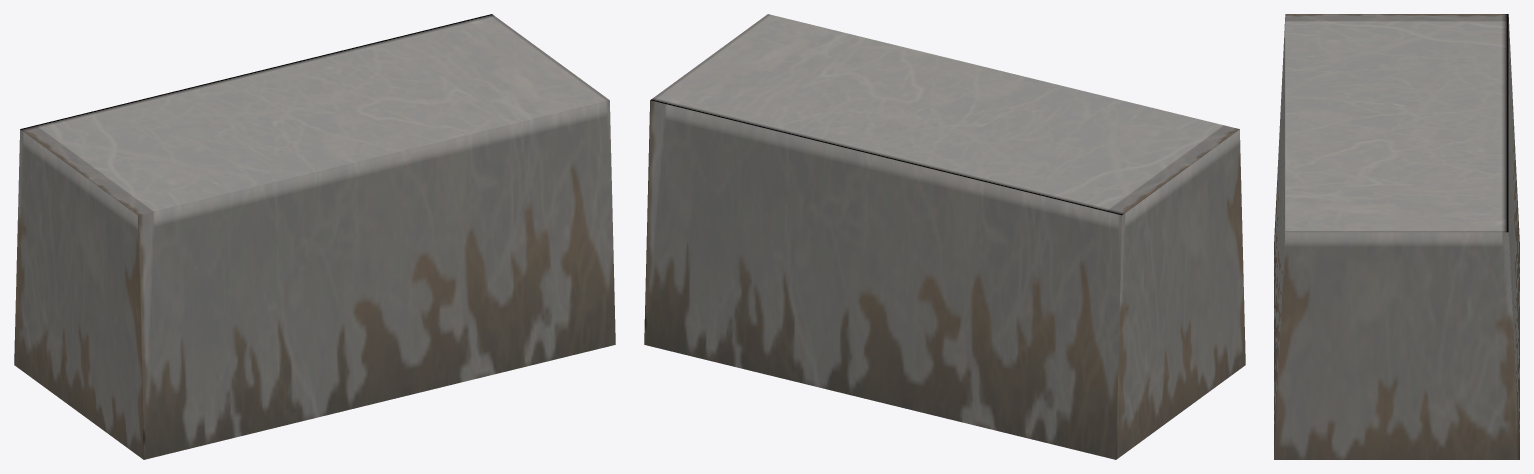
File: Building_AncientBarrierLong.glb
3 views of the same model, side by side, from view 1: azimuth 30°, elevation 25°; view 2: azimuth 150°, elevation 25°; view 3: azimuth 270°, elevation 25° (orthographic). The views are drawn at different scales.
Visible parts, largest first — view 1: AncientBarrierLong; view 2: AncientBarrierLong; view 3: AncientBarrierLong.
Boxes of the visible parts, x1=… form: AncientBarrierLong: x1=14, y1=14, x2=615, y2=459; AncientBarrierLong: x1=644, y1=14, x2=1245, y2=459; AncientBarrierLong: x1=1274, y1=14, x2=1519, y2=459.
Size of the model in its own units: 1.85 by 0.9 by 0.88.
1 material, 1 textured.
